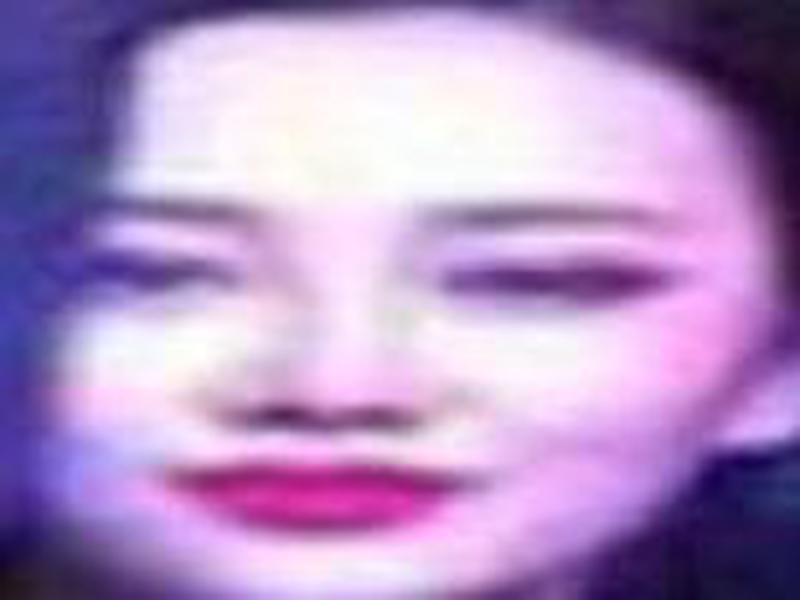without_mask: (48, 27, 716, 595)
